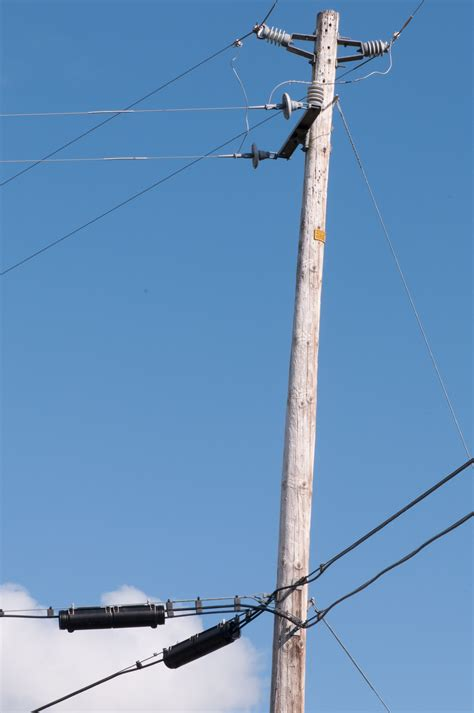pole: (240, 16, 399, 709)
